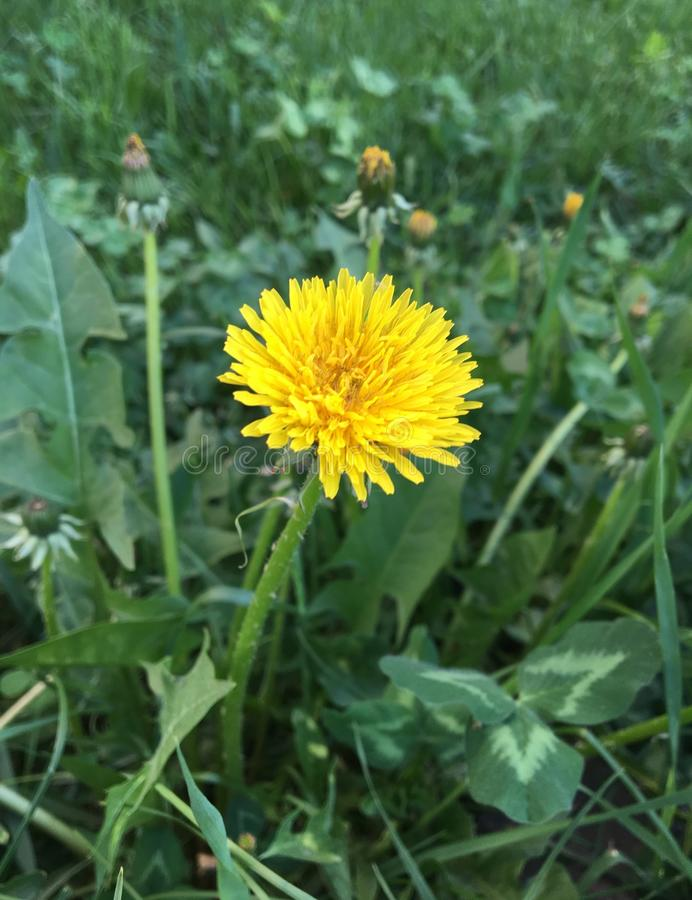dandelion: (183, 268, 516, 503)
